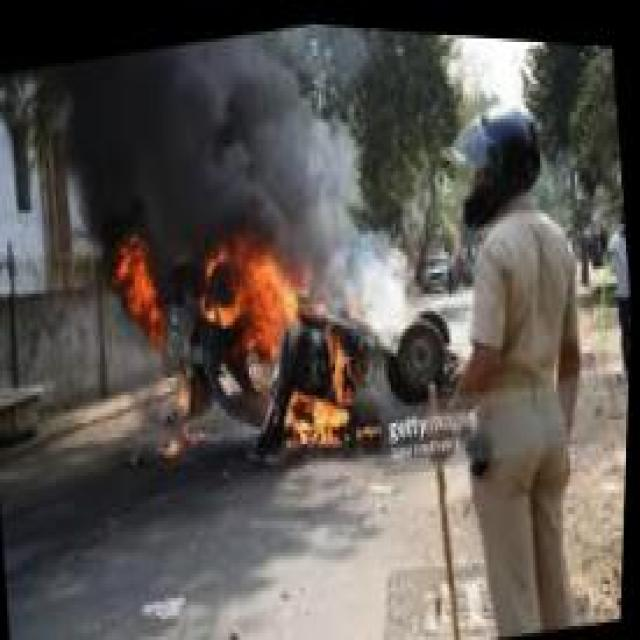Fire: (95, 154, 391, 500)
Smoke: (0, 0, 349, 280), (328, 150, 431, 347)
